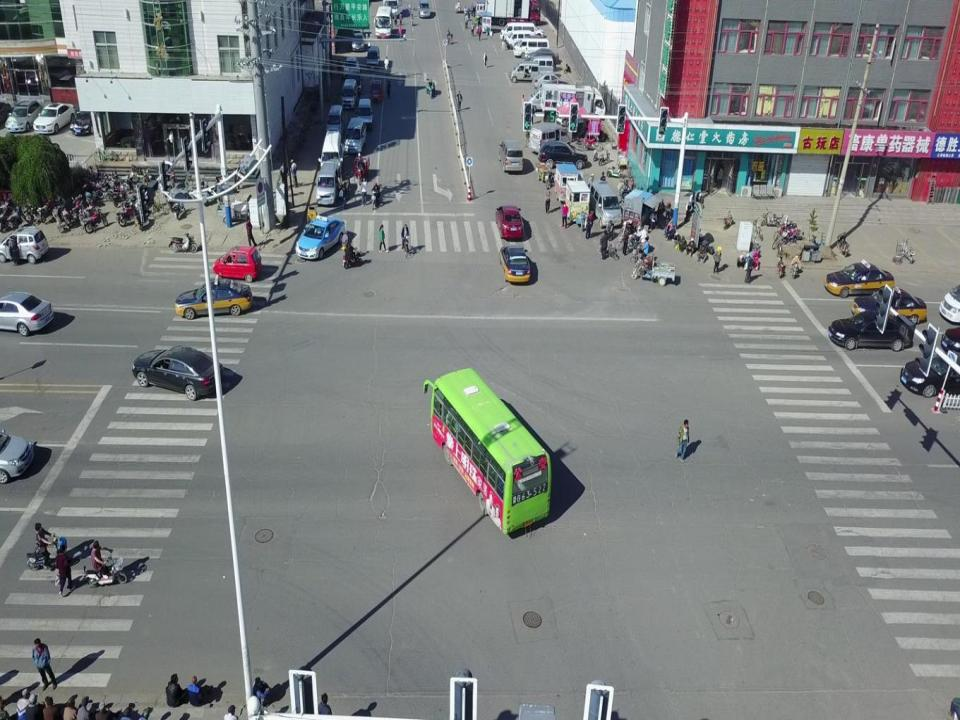bus: (422, 364, 549, 533), (374, 6, 394, 38), (382, 0, 403, 16)
car: (134, 348, 224, 401), (829, 310, 915, 352), (174, 275, 251, 319), (822, 258, 896, 296), (852, 287, 927, 324), (899, 356, 960, 399), (0, 290, 54, 336), (294, 214, 344, 258), (0, 427, 36, 483), (0, 229, 49, 264), (33, 100, 75, 136), (540, 142, 588, 170), (499, 244, 531, 285), (5, 100, 41, 132), (495, 204, 525, 240), (71, 102, 97, 138), (344, 118, 368, 152), (941, 324, 960, 356), (356, 98, 373, 127), (516, 22, 543, 40), (528, 52, 556, 68), (528, 49, 560, 63), (533, 72, 560, 88), (342, 56, 358, 74), (352, 31, 364, 51)
truck: (542, 82, 607, 125), (486, 0, 542, 29)
van: (592, 181, 621, 227), (530, 124, 571, 150), (317, 163, 342, 204), (526, 87, 565, 112), (320, 131, 343, 172), (498, 139, 524, 173), (940, 283, 960, 324), (514, 37, 548, 56), (510, 61, 539, 81), (500, 25, 536, 40), (526, 58, 554, 76), (341, 80, 358, 109), (508, 31, 532, 48), (328, 105, 342, 133), (366, 44, 380, 68), (418, 0, 432, 19)
